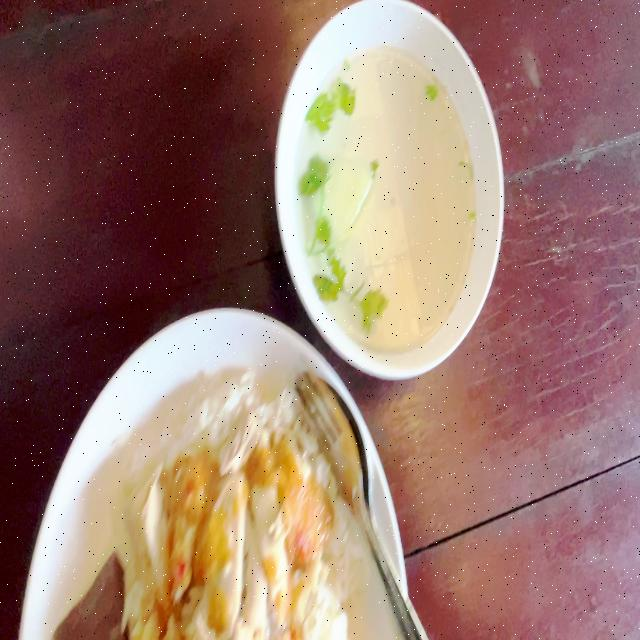boiled_chicken: (144, 448, 324, 630)
boiled_chicken_blood_jelly: (49, 547, 126, 640)
chicken_rice: (49, 388, 348, 640)
